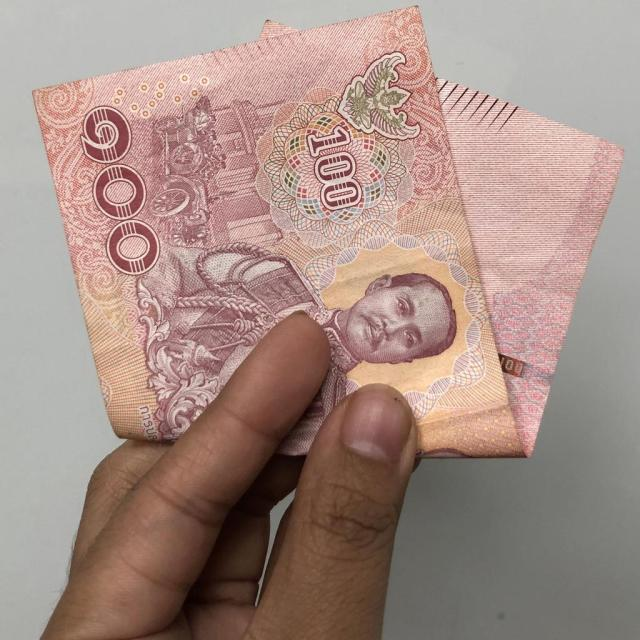THAI100: (34, 7, 622, 457)
